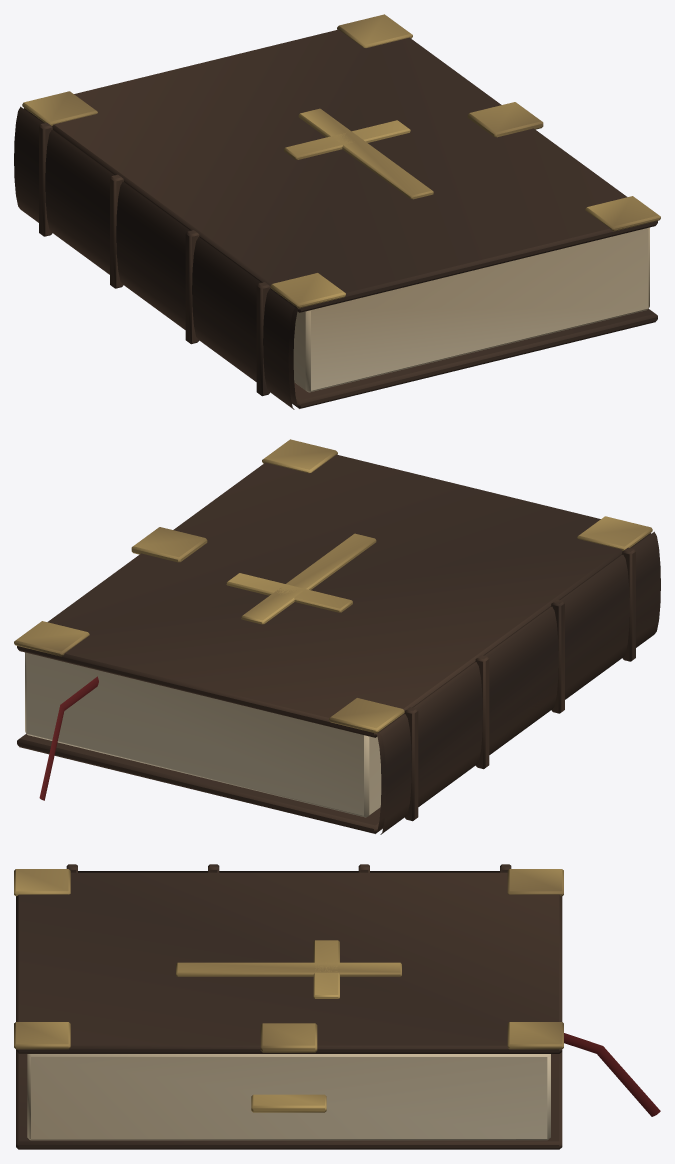
Rendered from parish-ledger.glb.
3 views of the same model, one above another, from view 1: azimuth 30°, elevation 25°; view 2: azimuth 150°, elevation 25°; view 3: azimuth 270°, elevation 25° (orthographic).
Visible parts, largest first — view 1: parish-ledger; view 2: parish-ledger; view 3: parish-ledger.
Part boxes in pixels (x1,y1,x2,y2): parish-ledger: (14, 14, 660, 409); parish-ledger: (14, 439, 660, 834); parish-ledger: (14, 864, 660, 1149).
Size of the model in its own units: 0.241 by 0.065 by 0.3434.
